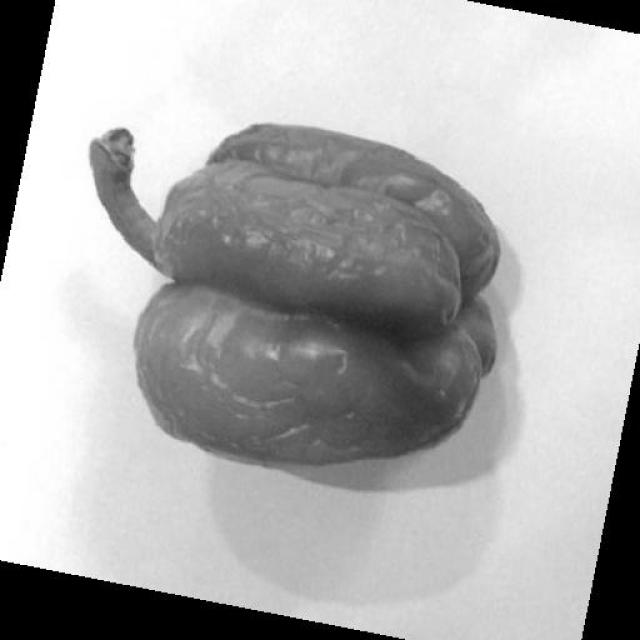Stale_Capsicum: (140, 106, 493, 470)
